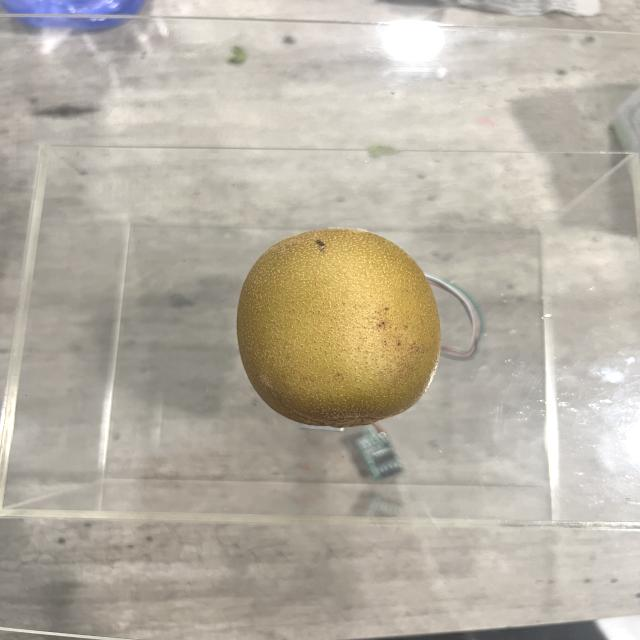kiwi: (236, 226, 442, 426)
